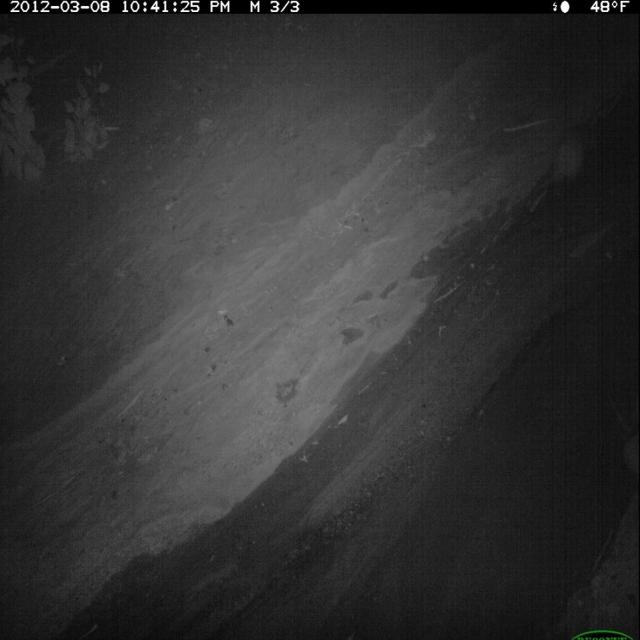opossum: (525, 119, 594, 219)
